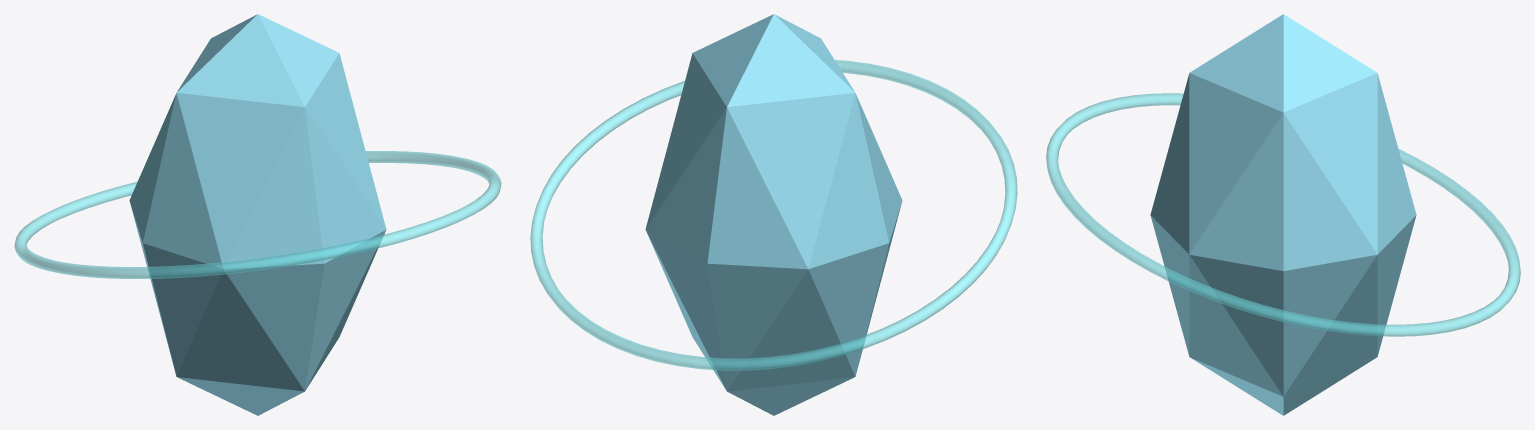
The model's file is crystal.glb.
The picture shows the model from 3 angles, left to right: view 1: azimuth 30°, elevation 25°; view 2: azimuth 150°, elevation 25°; view 3: azimuth 270°, elevation 25°; orthographic projection.
Parts seen in each view (by area): view 1: CrystalShell, Ring; view 2: CrystalShell, Ring; view 3: CrystalShell, Ring.
Part boxes in pixels (x1,y1,x2,y2): CrystalShell: [129, 14, 386, 415]; Ring: [14, 151, 501, 278]; CrystalShell: [645, 14, 902, 415]; Ring: [530, 60, 1017, 370]; CrystalShell: [1150, 14, 1416, 415]; Ring: [1046, 93, 1520, 336].
Bounding box in the file's own units: 2.77 × 2.5 × 2.68.
